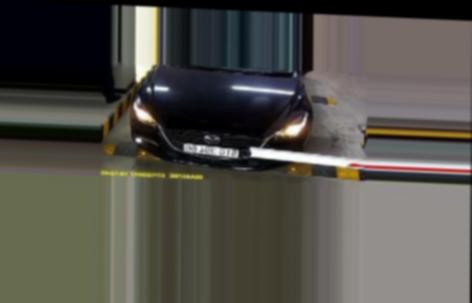License_Plate: (182, 141, 240, 160)
